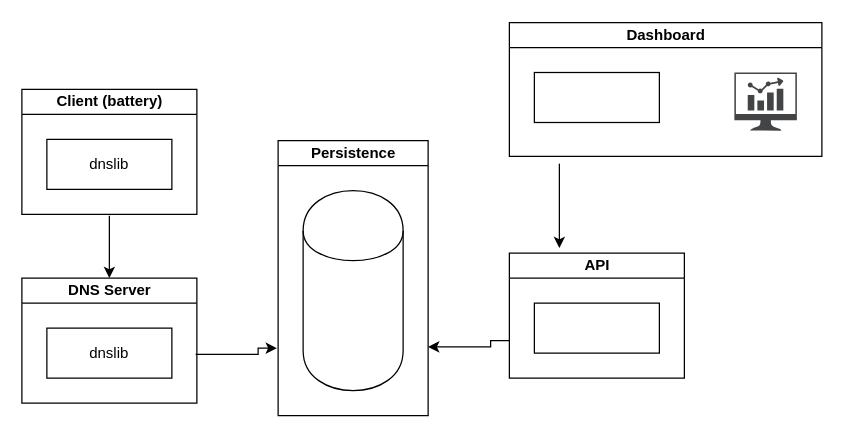
Some shapes in this 844 by 438 pixel diagram are drawn without their labels. Each missing label, with the centre of its shape:
"Flask" belongs at [596,327].
"NuxtJS" belongs at [596,96].
"redis" belongs at [352,290].
